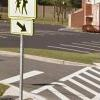Crosswalk: (37, 59, 100, 100)
